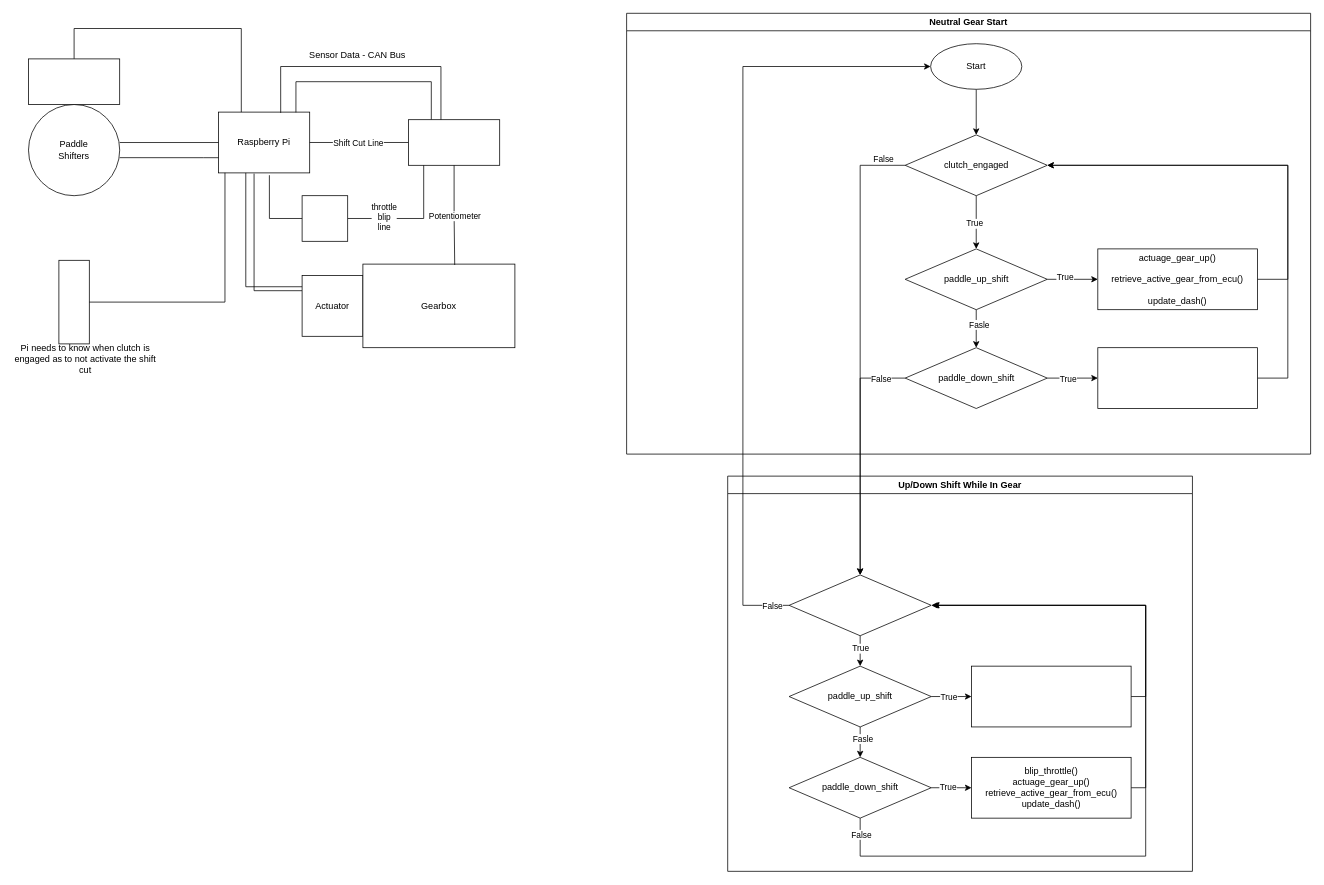
This 1324x885 diagram has some shape labels left out. Each missing label, with the centre of its shape:
actuage_gear_down() retrieve_active_gear_from_ecu() updat_dash(): (1177,377)
car_in_gear AND NOT "Neutral": (859,605)
Clutch: (73,302)
Dash: (74,81)
DBW Controller: (324,218)
ECU: (454,142)
shift_cut() actuage_gear_up() retrieve_active_gear_from_ecu() update_dash(): (1051,696)
